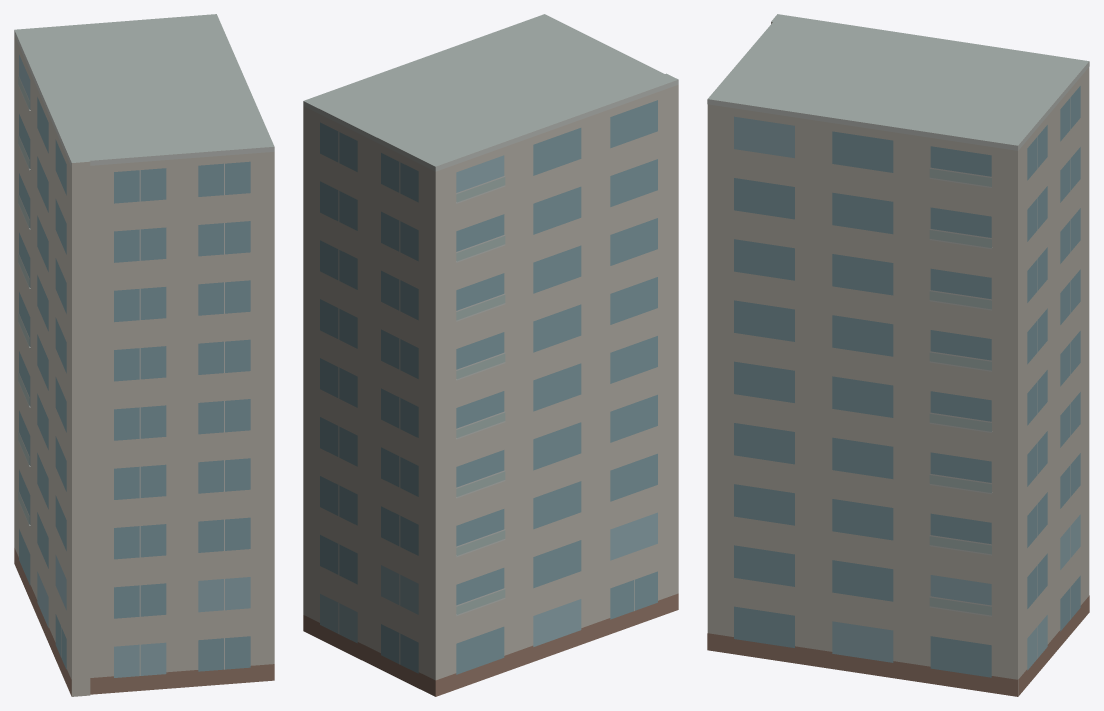
File: survey-upis-32892703.glb
3 renders of one model, left to right at view 1: azimuth 30°, elevation 25°; view 2: azimuth 150°, elevation 25°; view 3: azimuth 270°, elevation 25°, orthographic. The views are drawn at different scales.
Parts seen in each view (by area): view 1: survey-upis-32892703.tmp; view 2: survey-upis-32892703.tmp; view 3: survey-upis-32892703.tmp.
Boxes of the visible parts, left/top/right/bottom form: survey-upis-32892703.tmp: left=14, top=14, right=274, bottom=696; survey-upis-32892703.tmp: left=303, top=14, right=678, bottom=696; survey-upis-32892703.tmp: left=707, top=14, right=1089, bottom=696.
Size of the model in its own units: 13.18 by 25.7 by 16.15.
